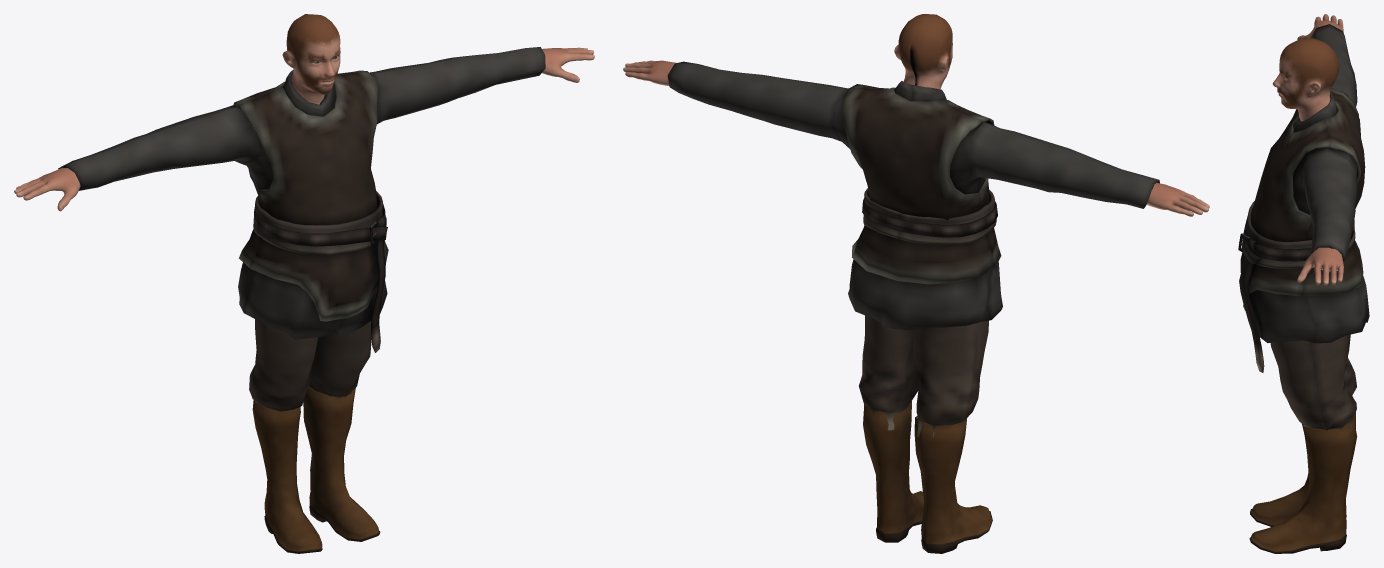
File: man_tweak.obj
3 renders of one model, left to right at view 1: azimuth 30°, elevation 25°; view 2: azimuth 150°, elevation 25°; view 3: azimuth 270°, elevation 25°, orthographic. The views are drawn at different scales.
Parts seen in each view (by area): view 1: man; view 2: man; view 3: man.
Part boxes in pixels (<box>): man: <box>14,14,594,553</box>; man: <box>623,14,1209,553</box>; man: <box>1238,14,1369,553</box>.
Bounding box in the file's own units: 186 × 157 × 37.95.
Materials: 1 (1 with a texture image).
